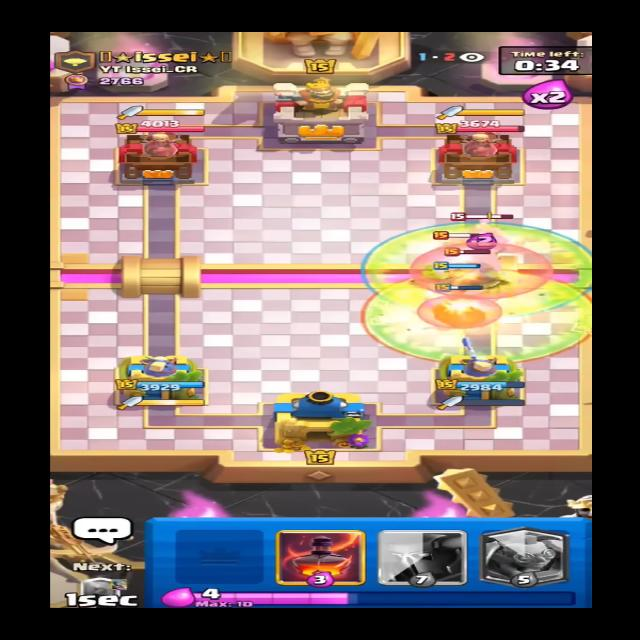goblin-curse: (363, 268, 601, 372)
